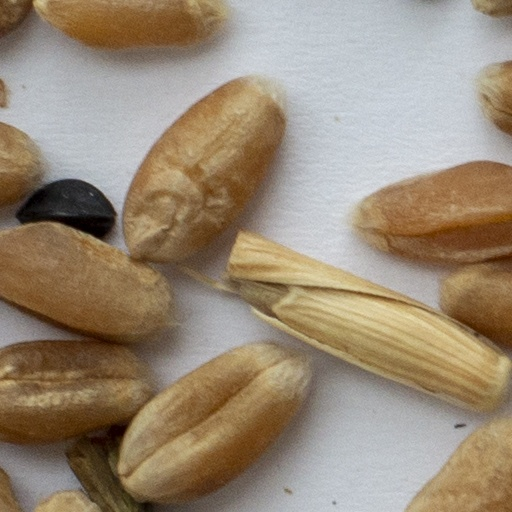Fallopia-Сonvolvulus-poly: (16, 180, 114, 236)
Peel-poly: (227, 234, 510, 411)
